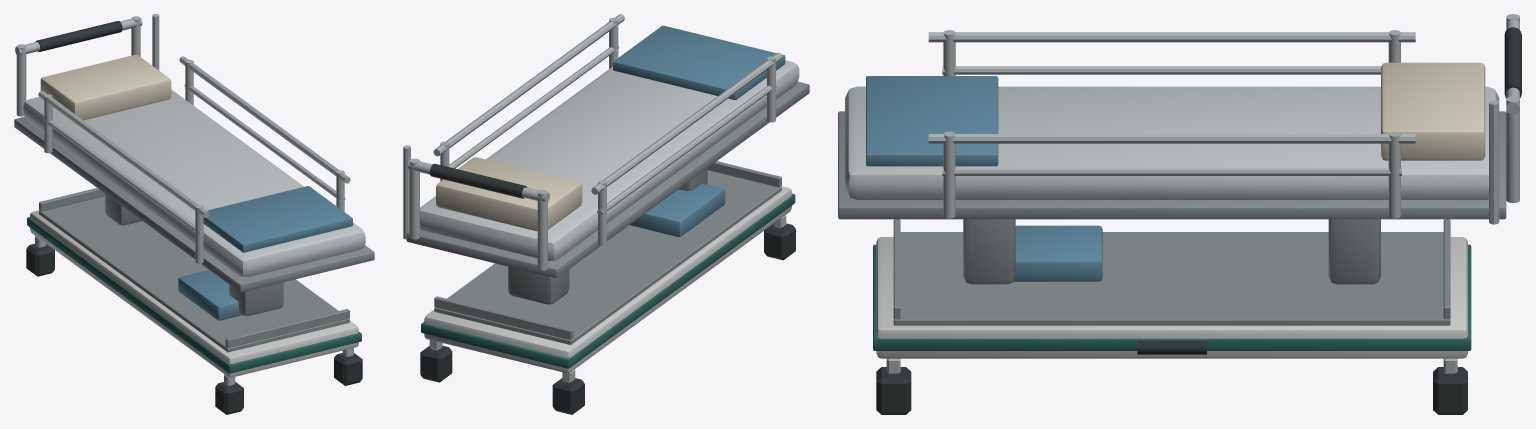
Rendered from stretcher.glb.
3 renders of one model, left to right at view 1: azimuth 30°, elevation 25°; view 2: azimuth 150°, elevation 25°; view 3: azimuth 270°, elevation 25°, orthographic. The views are drawn at different scales.
Visible parts, largest first — view 1: stretcher; view 2: stretcher; view 3: stretcher.
Boxes of the visible parts, x1,y1,x2,y2 form: stretcher: (14,14,374,414); stretcher: (403,14,809,414); stretcher: (838,14,1521,414).
Size of the model in its own units: 0.725 by 1 by 1.96.
